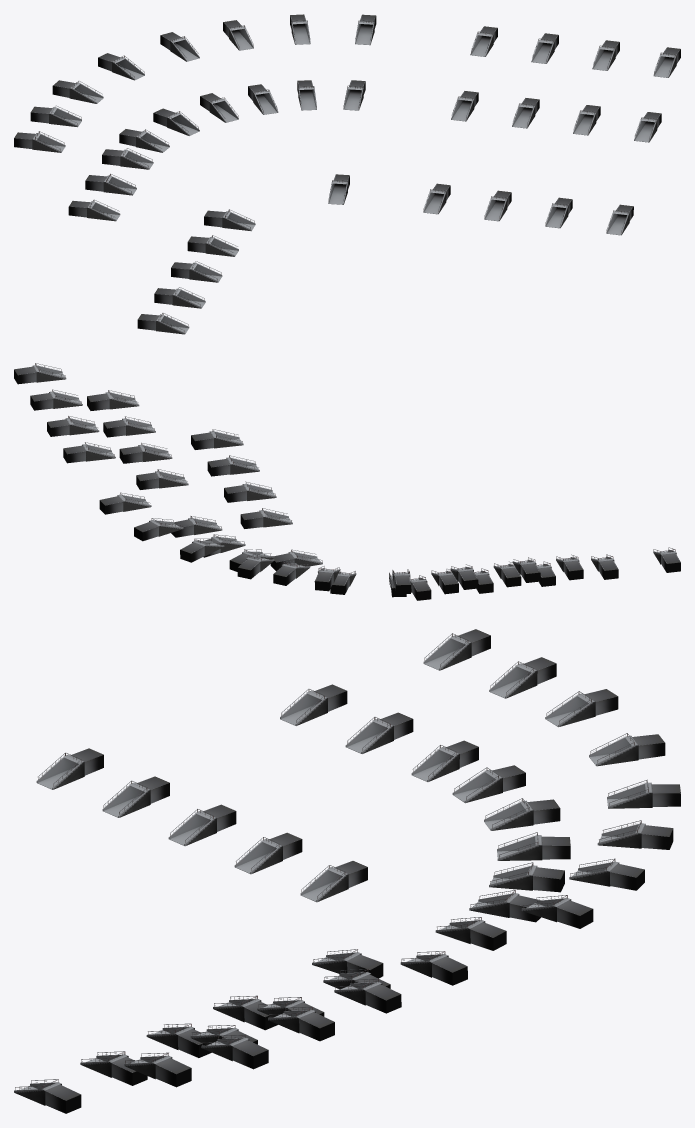
The model's file is Entrance_Left.fbx.
3 views of the same model, one above another, from view 1: azimuth 30°, elevation 25°; view 2: azimuth 150°, elevation 25°; view 3: azimuth 270°, elevation 25° (orthographic). The views are drawn at different scales.
Parts seen in each view (by area): view 1: Entrance_Left; view 2: Entrance_Left; view 3: Entrance_Left.
Boxes of the visible parts, x1=… form: Entrance_Left: x1=14, y1=14, x2=680, y2=334; Entrance_Left: x1=14, y1=363, x2=680, y2=600; Entrance_Left: x1=14, y1=629, x2=680, y2=1113.
Bounding box in the file's own units: 7758 × 1197 × 5058.
Materials: 1 (1 with a texture image).
